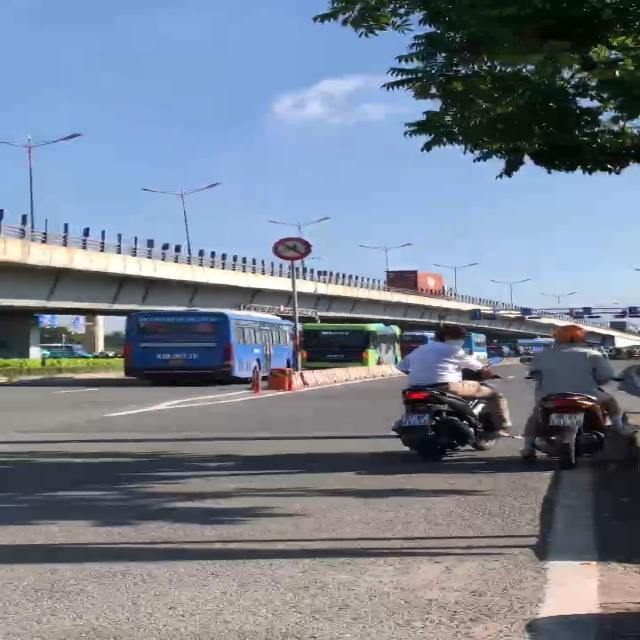Bien bao cam xe may: (266, 235, 322, 265)
